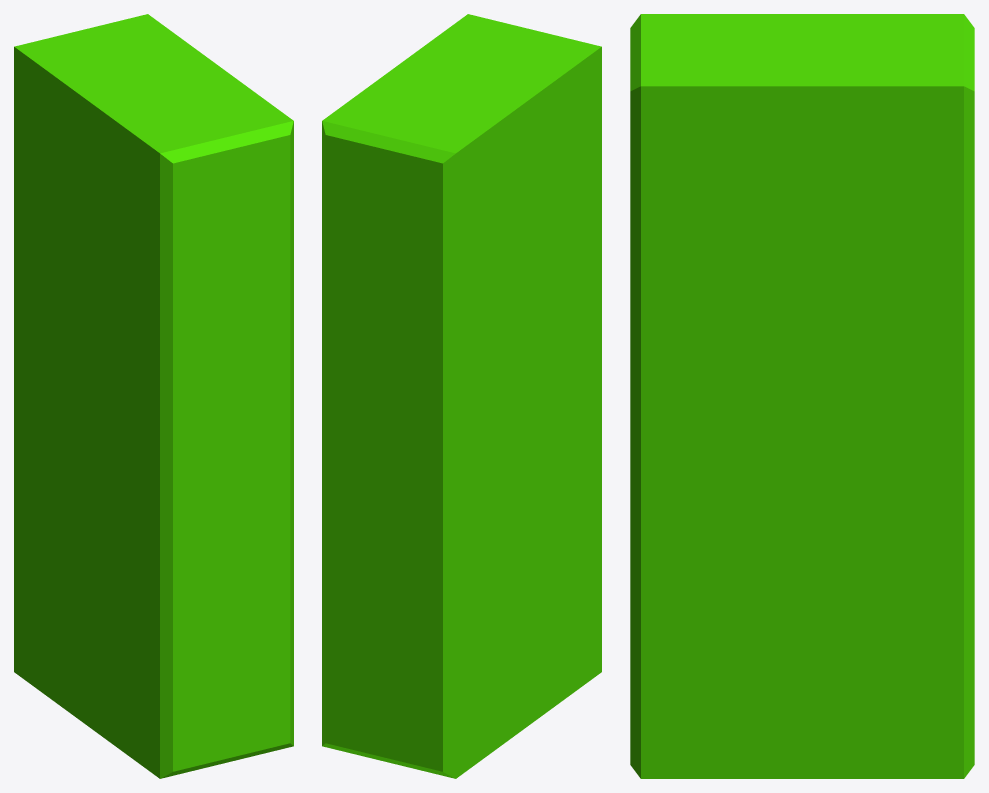
File: Orn_Text_I.fbx
3 renders of one model, left to right at view 1: azimuth 30°, elevation 25°; view 2: azimuth 150°, elevation 25°; view 3: azimuth 270°, elevation 25°, orthographic. The views are drawn at different scales.
Visible parts, largest first — view 1: Orn_Text_I; view 2: Orn_Text_I; view 3: Orn_Text_I.
Boxes of the visible parts, box(x1,y1,x2,y2) form: Orn_Text_I: box(14, 14, 293, 778); Orn_Text_I: box(322, 14, 601, 778); Orn_Text_I: box(630, 14, 974, 778).
Size of the model in its own units: 38.25 by 171 by 76.95.
